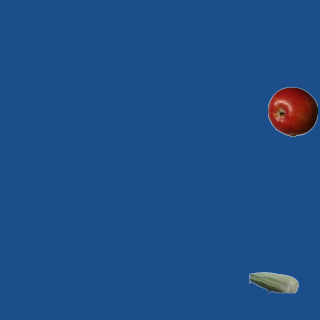Apple Braeburn: (267, 86, 317, 136)
Corn Husk: (248, 257, 298, 307)
